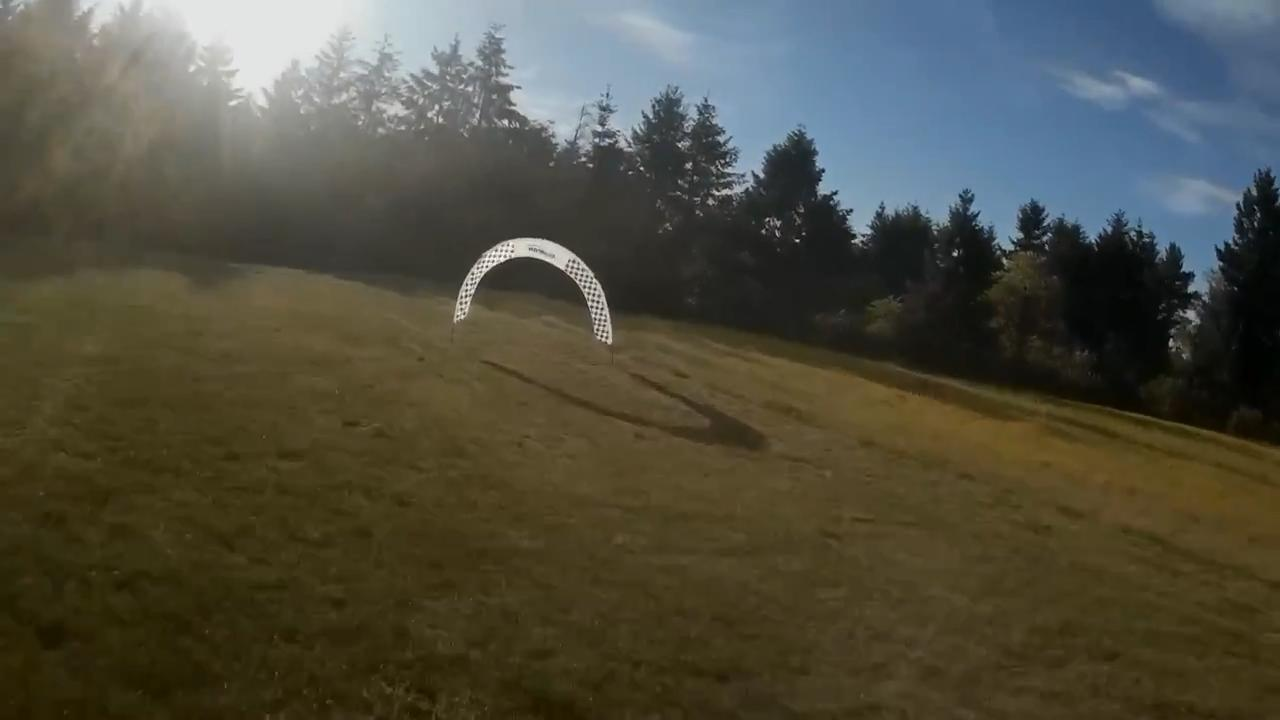gate: (451, 234, 613, 347)
